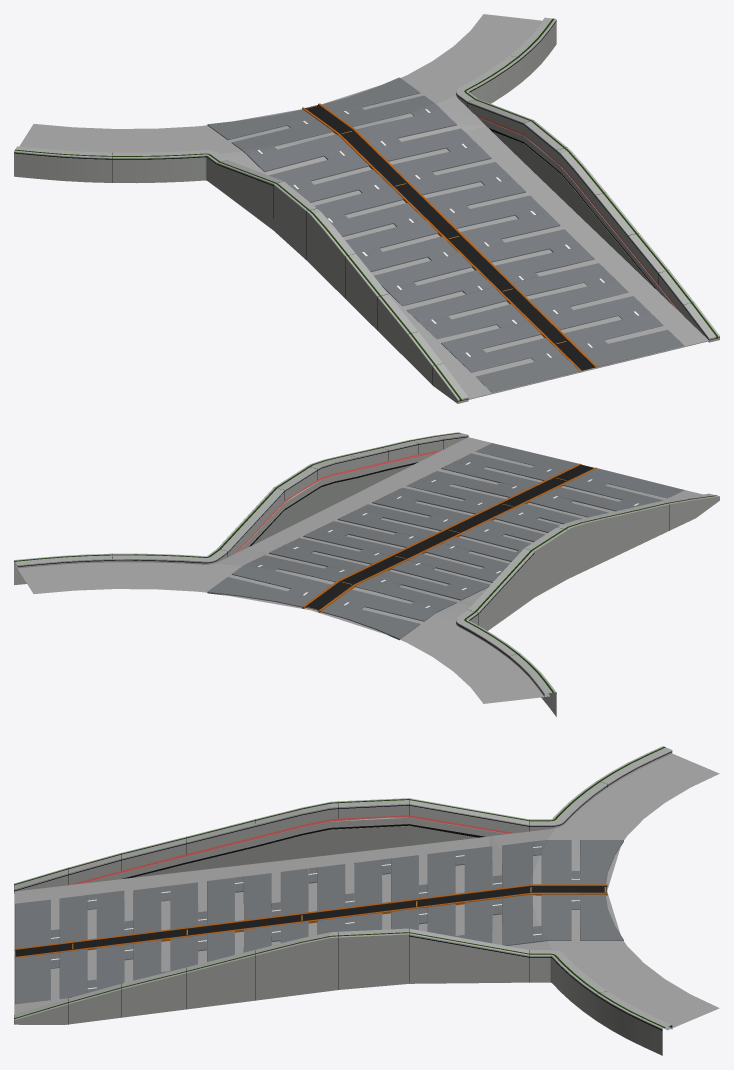
The model's file is R0_Park_Center_road.fbx.
The picture shows the model from 3 angles, top to bottom: view 1: azimuth 30°, elevation 25°; view 2: azimuth 150°, elevation 25°; view 3: azimuth 270°, elevation 25°; orthographic projection. The views are drawn at different scales.
Visible parts, largest first — view 1: R0_Park_Center_road; view 2: R0_Park_Center_road; view 3: R0_Park_Center_road.
Part boxes in pixels (<box>): R0_Park_Center_road: <box>14,14,719,403</box>; R0_Park_Center_road: <box>14,432,719,716</box>; R0_Park_Center_road: <box>14,746,719,1055</box>.
Size of the model in its own units: 22.53 by 23.75 by 3.36.
